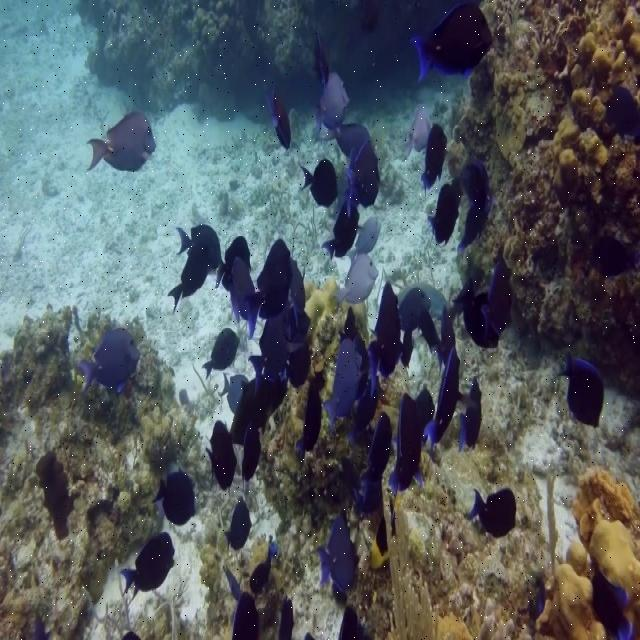fish: (323, 264, 513, 497), (166, 224, 314, 489), (312, 64, 380, 263), (407, 1, 494, 83), (428, 158, 492, 259), (74, 328, 140, 396), (118, 532, 177, 608), (86, 112, 157, 171), (556, 351, 605, 429), (409, 107, 450, 188), (318, 518, 357, 594), (593, 569, 634, 638), (360, 410, 393, 495), (149, 467, 197, 525), (466, 489, 517, 538), (335, 254, 380, 308), (295, 382, 322, 462), (201, 328, 240, 380), (300, 159, 338, 208), (223, 495, 252, 550), (348, 216, 380, 265), (605, 86, 637, 128), (231, 592, 259, 639), (272, 86, 291, 150), (249, 545, 271, 594), (279, 596, 296, 639), (223, 567, 241, 601)
reefs: (0, 304, 259, 639), (447, 1, 639, 359), (75, 0, 462, 128), (535, 466, 639, 639)
